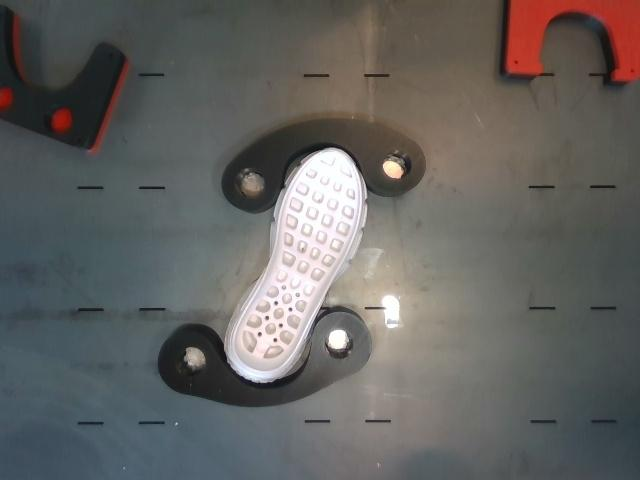shoes: (234, 150, 361, 371)
